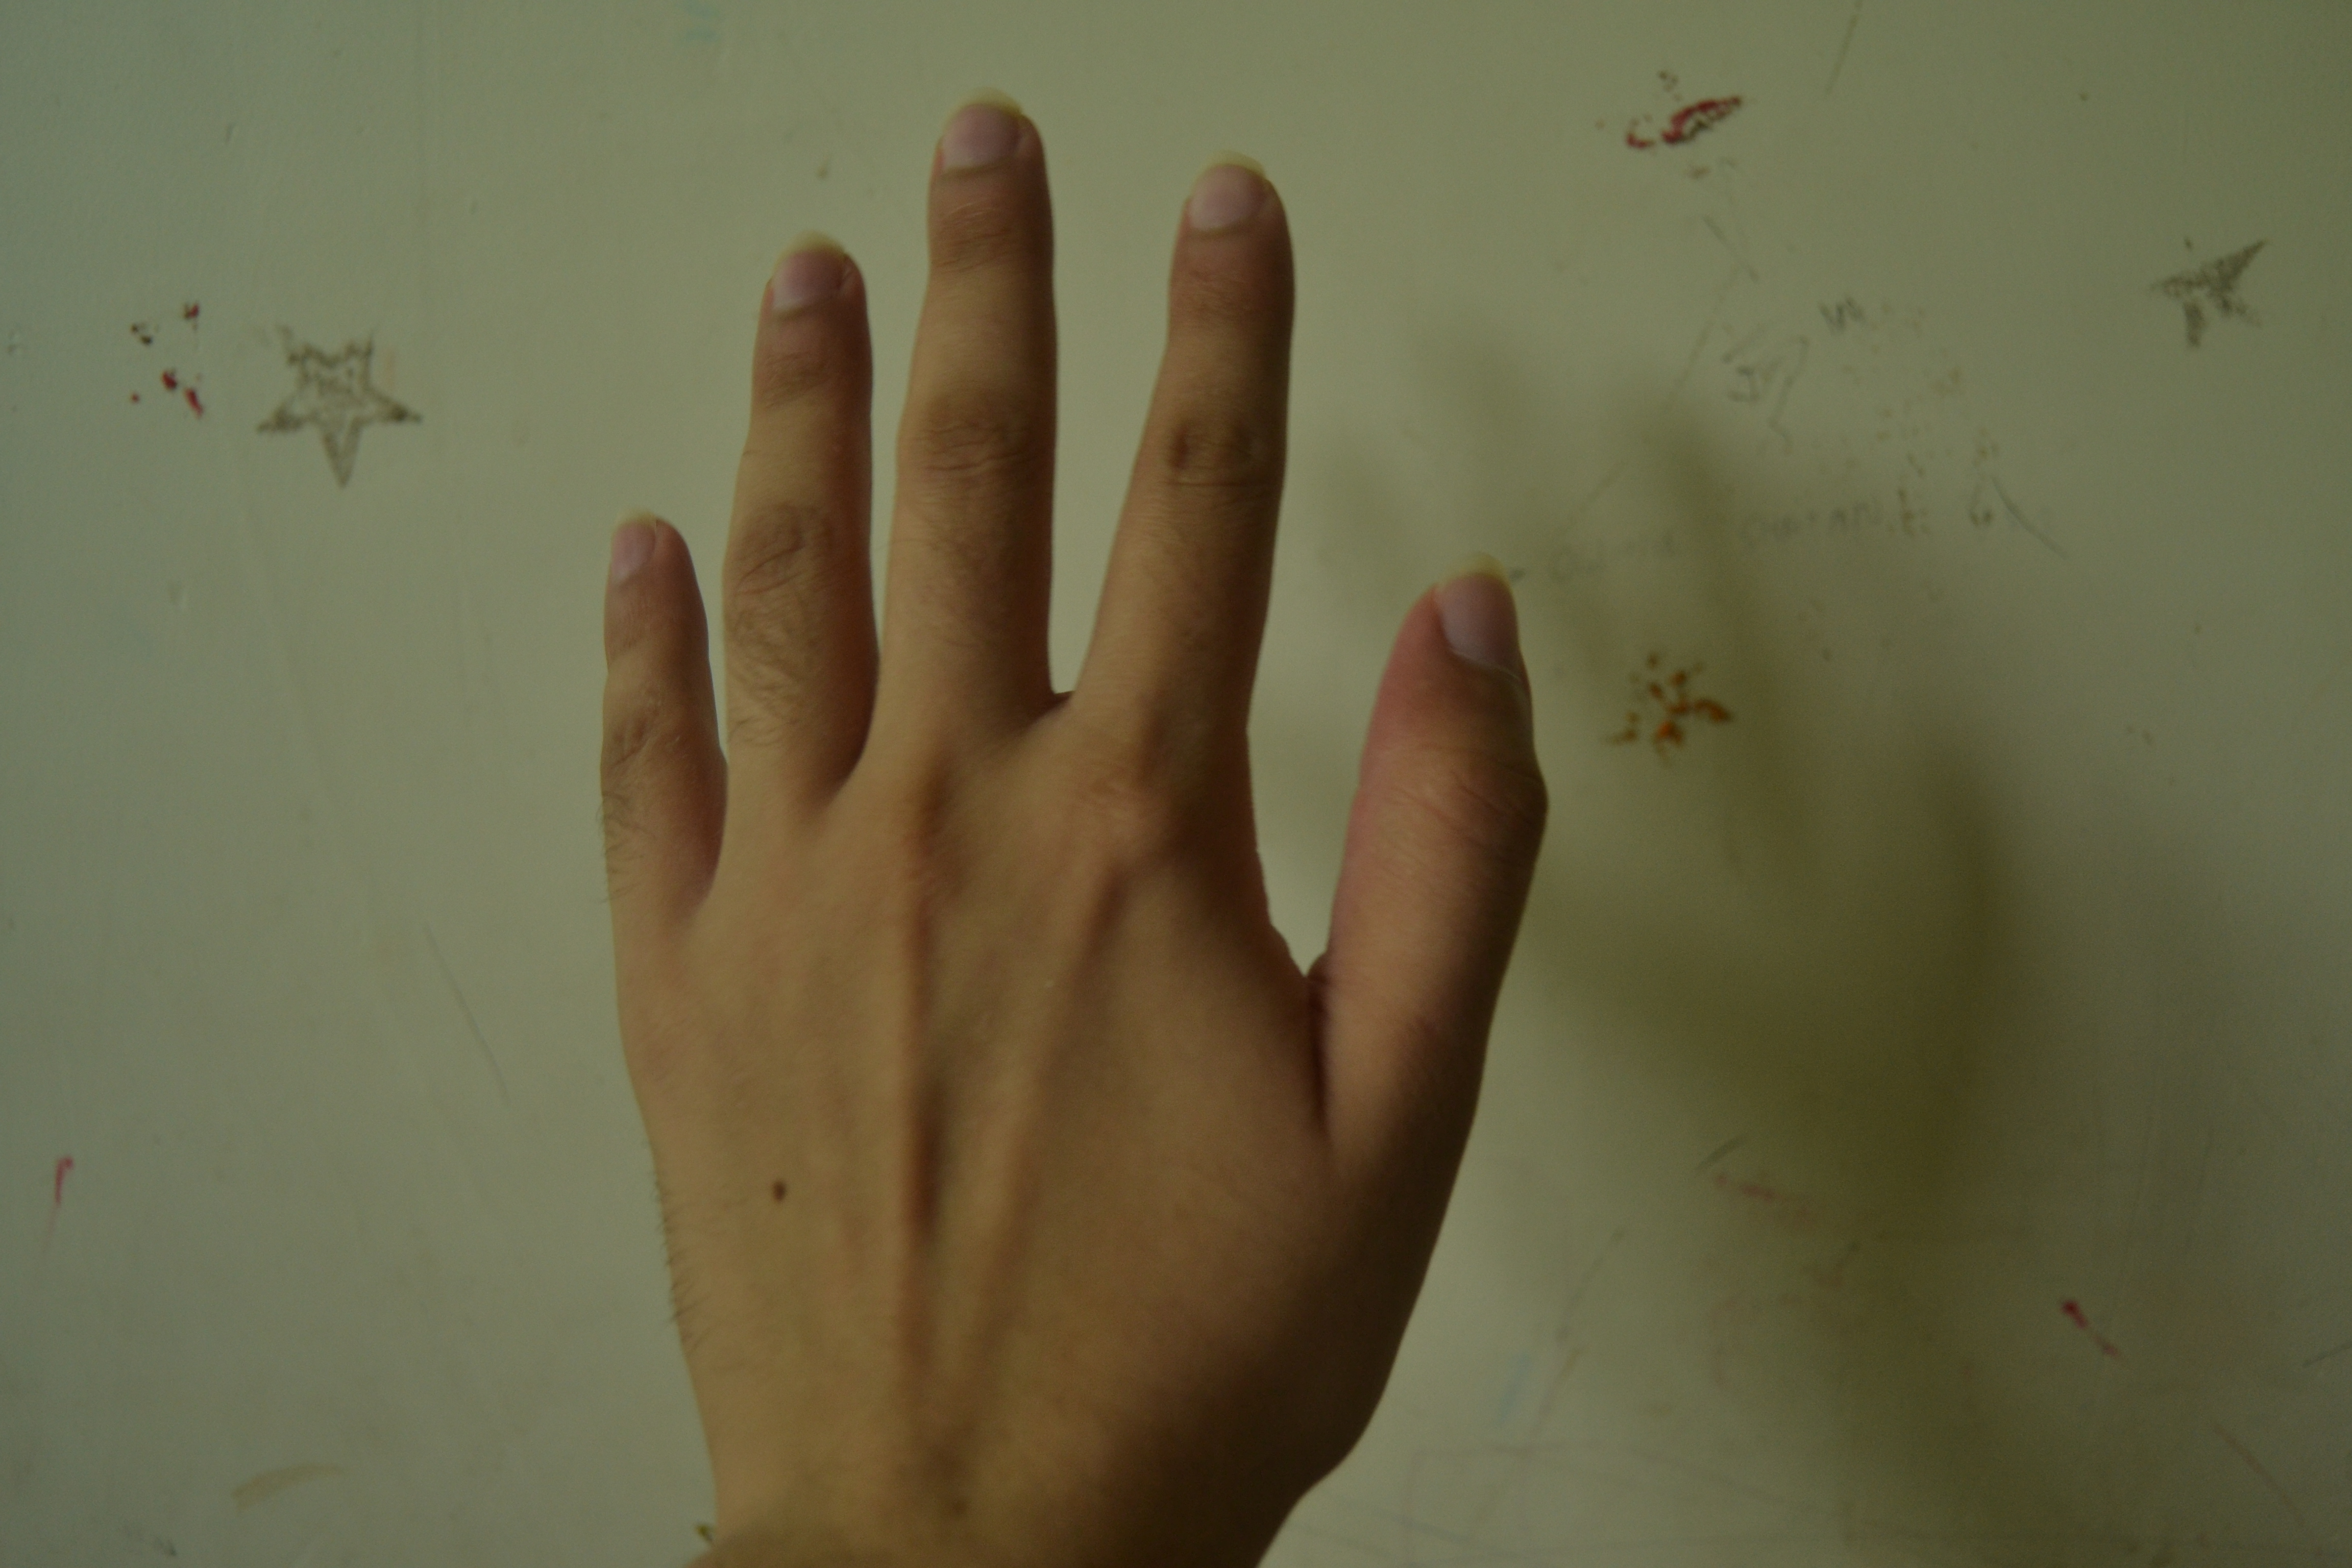move: (583, 80, 1601, 1568)
